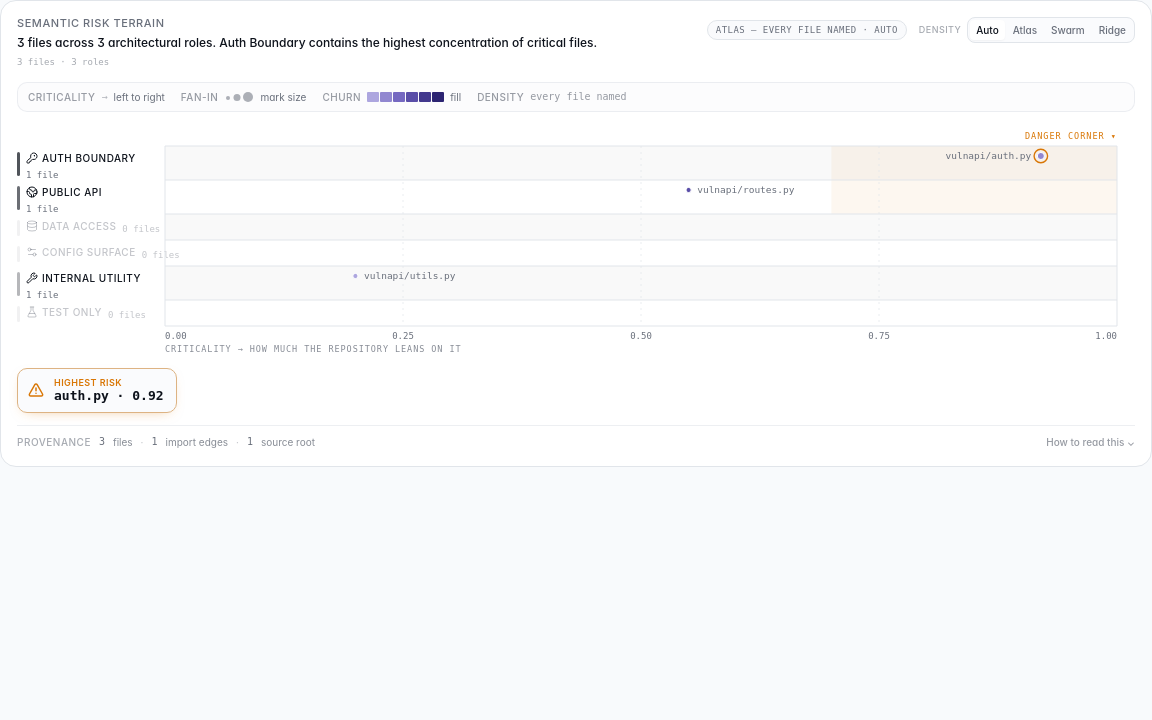
Test: SemanticArchitecturePanel › clicking the risk callout opens the named file's detail
Click the button with aria-label "Highest risk: auth.py · 0.92".
click(97, 390)  # box [17,368,177,413]
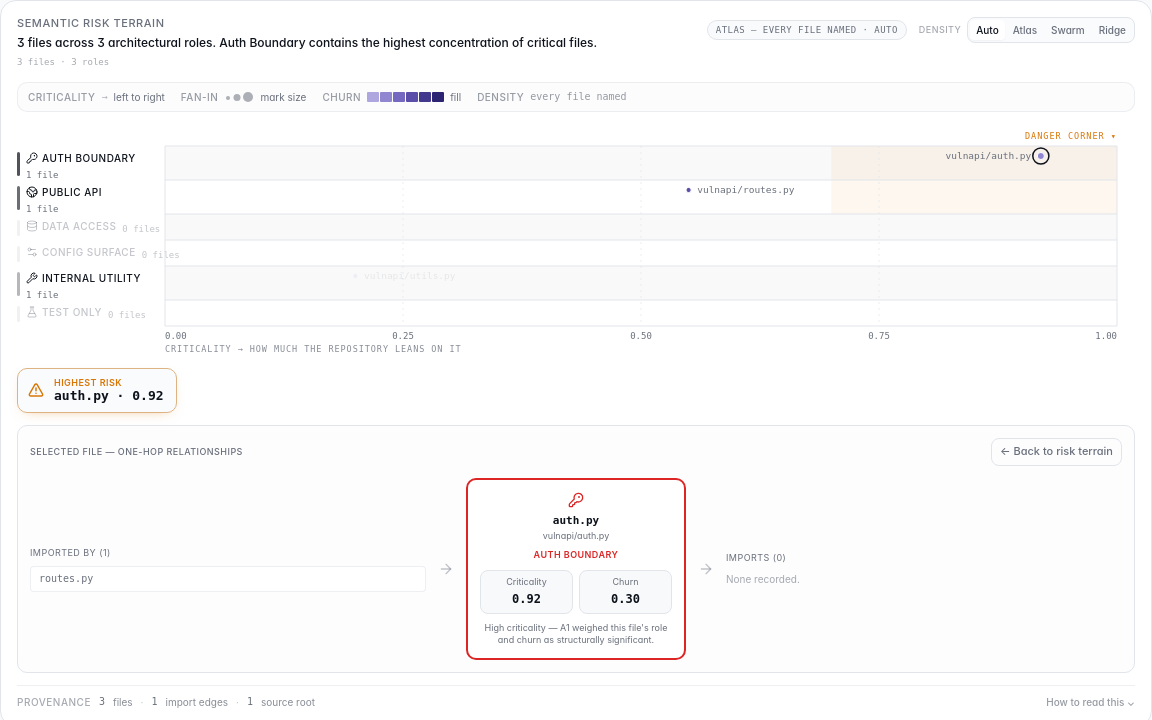
Now the text "Selected file — one-hop relationships" is shown, box [30,445,243,459]
